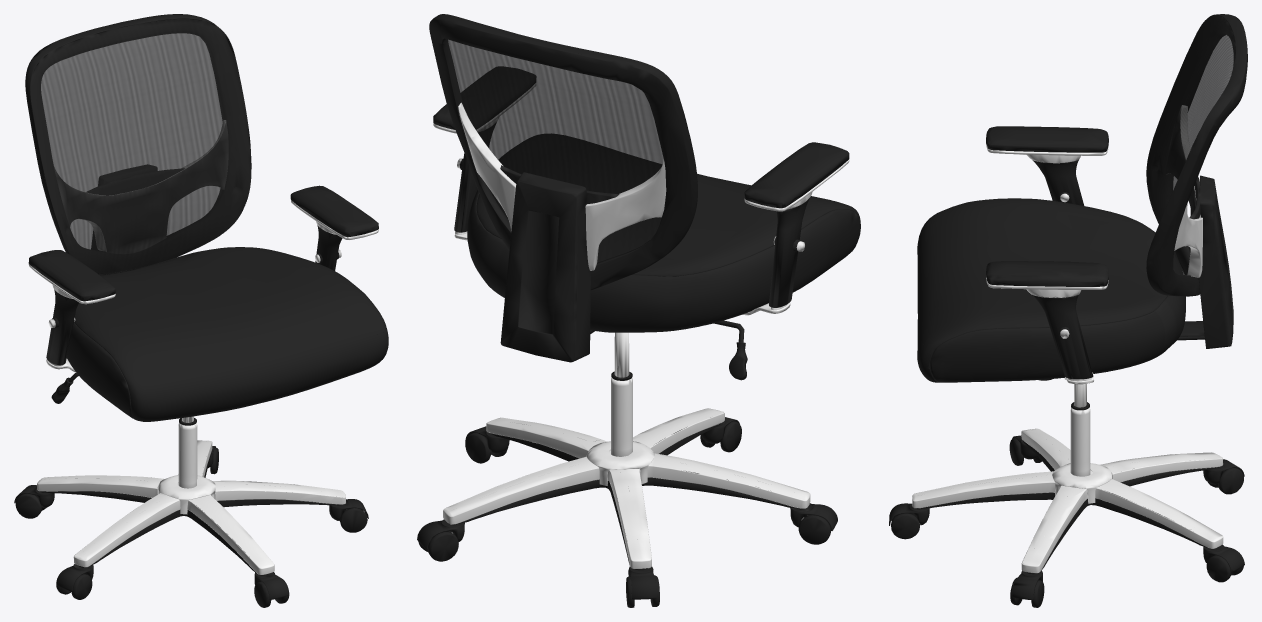
The model's file is chair-task.glb.
The picture shows the model from 3 angles, left to right: view 1: azimuth 30°, elevation 25°; view 2: azimuth 150°, elevation 25°; view 3: azimuth 270°, elevation 25°; orthographic projection. The views are drawn at different scales.
Parts seen in each view (by area): view 1: Cylinder002_0; view 2: Cylinder002_0; view 3: Cylinder002_0.
Boxes of the visible parts, <box> form: Cylinder002_0: <box>14,14,388,607</box>; Cylinder002_0: <box>417,14,860,607</box>; Cylinder002_0: <box>889,14,1247,607</box>.
Bounding box in the file's own units: 0.7428 × 1.06 × 0.7125.
2 materials, 2 textured.
